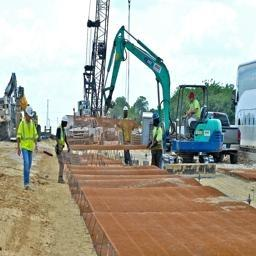hat: (60, 113, 77, 137), (23, 101, 43, 121), (150, 112, 166, 128), (120, 105, 135, 119), (187, 90, 201, 105)
no vest: (15, 118, 51, 161)
vest: (114, 116, 140, 157), (149, 124, 168, 165), (53, 127, 74, 159), (187, 99, 203, 129)
